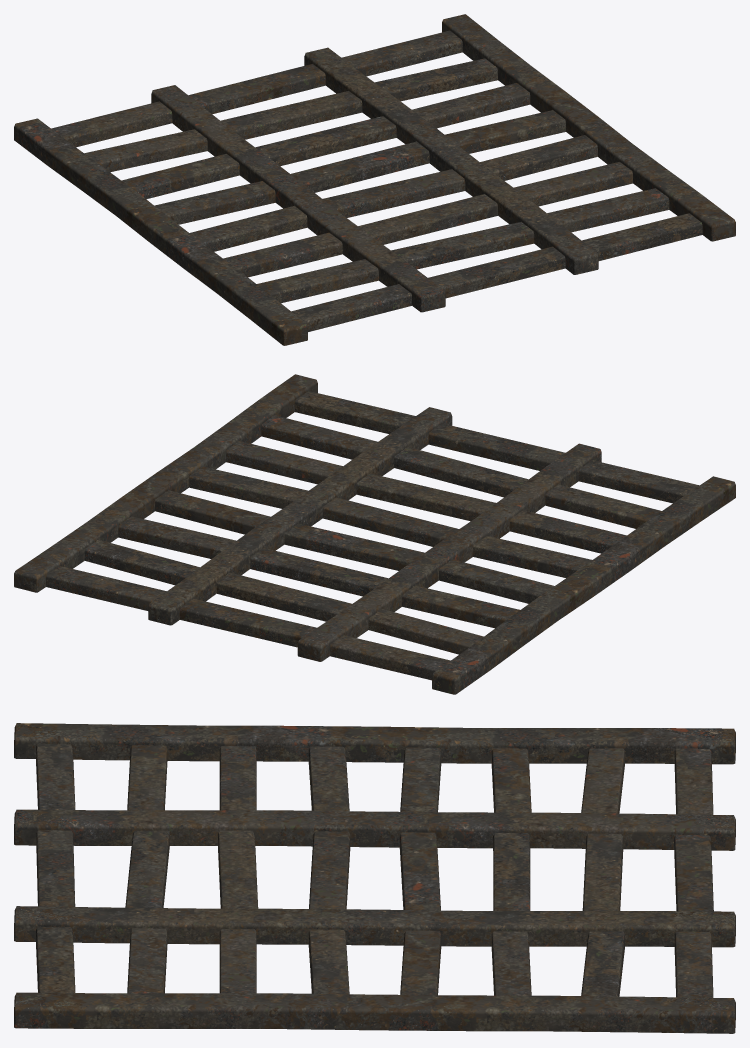
File: Basement_Corridor_B_Floor_4x4m_Wood_Frame.glb
3 renders of one model, top to bottom at view 1: azimuth 30°, elevation 25°; view 2: azimuth 150°, elevation 25°; view 3: azimuth 270°, elevation 25°, orthographic. The views are drawn at different scales.
Visible parts, largest first — view 1: Basement_Corridor_B_Floor_4x4m_Wood_Frame; view 2: Basement_Corridor_B_Floor_4x4m_Wood_Frame; view 3: Basement_Corridor_B_Floor_4x4m_Wood_Frame.
Part boxes in pixels (box(x1,y1,x2,y2)): Basement_Corridor_B_Floor_4x4m_Wood_Frame: box(14, 14, 735, 345); Basement_Corridor_B_Floor_4x4m_Wood_Frame: box(14, 374, 735, 694); Basement_Corridor_B_Floor_4x4m_Wood_Frame: box(14, 723, 735, 1033).
Bounding box in the file's own units: 3.77 × 0.1267 × 3.96.
1 material, 1 textured.
